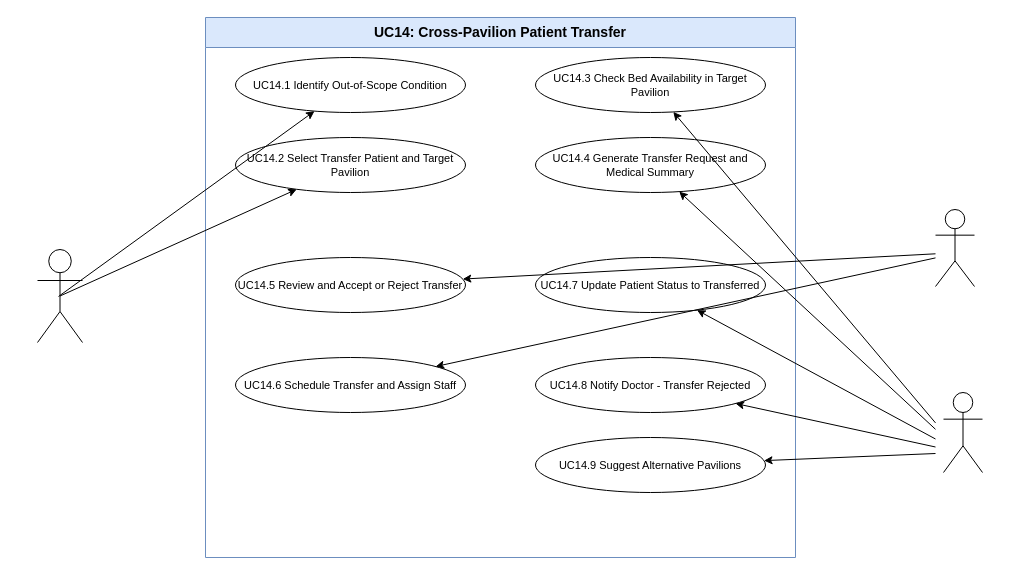
Image size: 1035x575. Some labels were removed from this diagram. Here are the shapes that lost their labels. From the top down, the centre of each, then its label:
At pixel 954 247: "Receiving Pavilion Staff".
At pixel 59 295: "Pediatric Doctor".
At pixel 962 432: "System".
